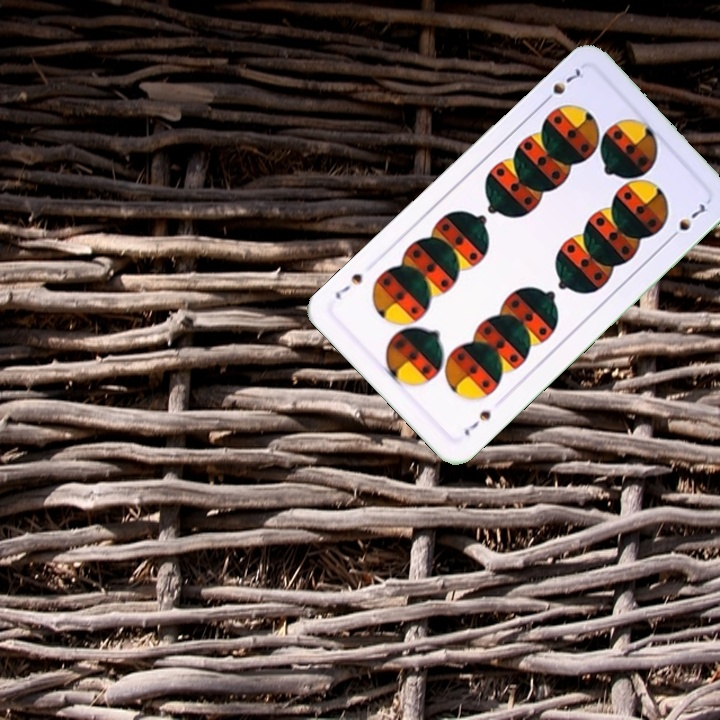S7: (537, 64, 587, 107), (460, 406, 494, 439)
